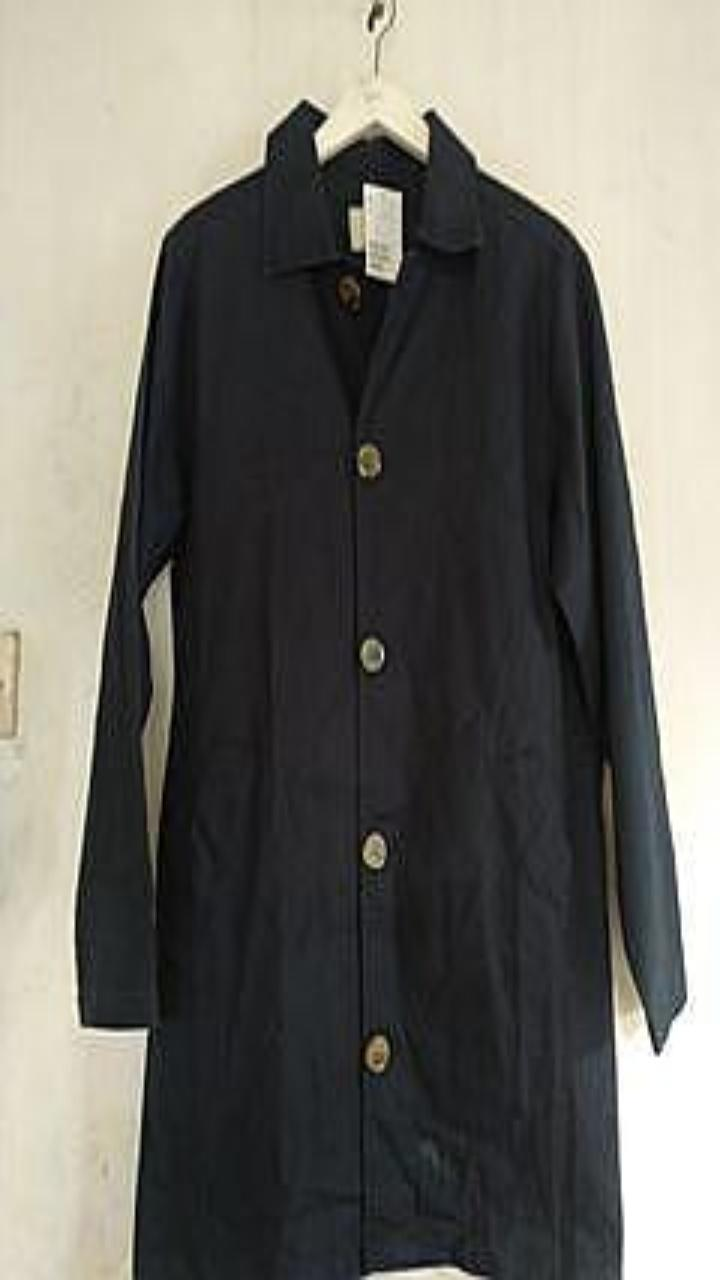Coat: (76, 100, 686, 1279)
